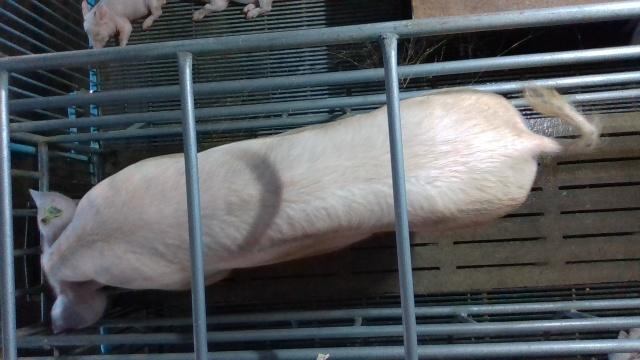piglet: (82, 0, 167, 49)
sow-stand-feed: (27, 86, 599, 331)
